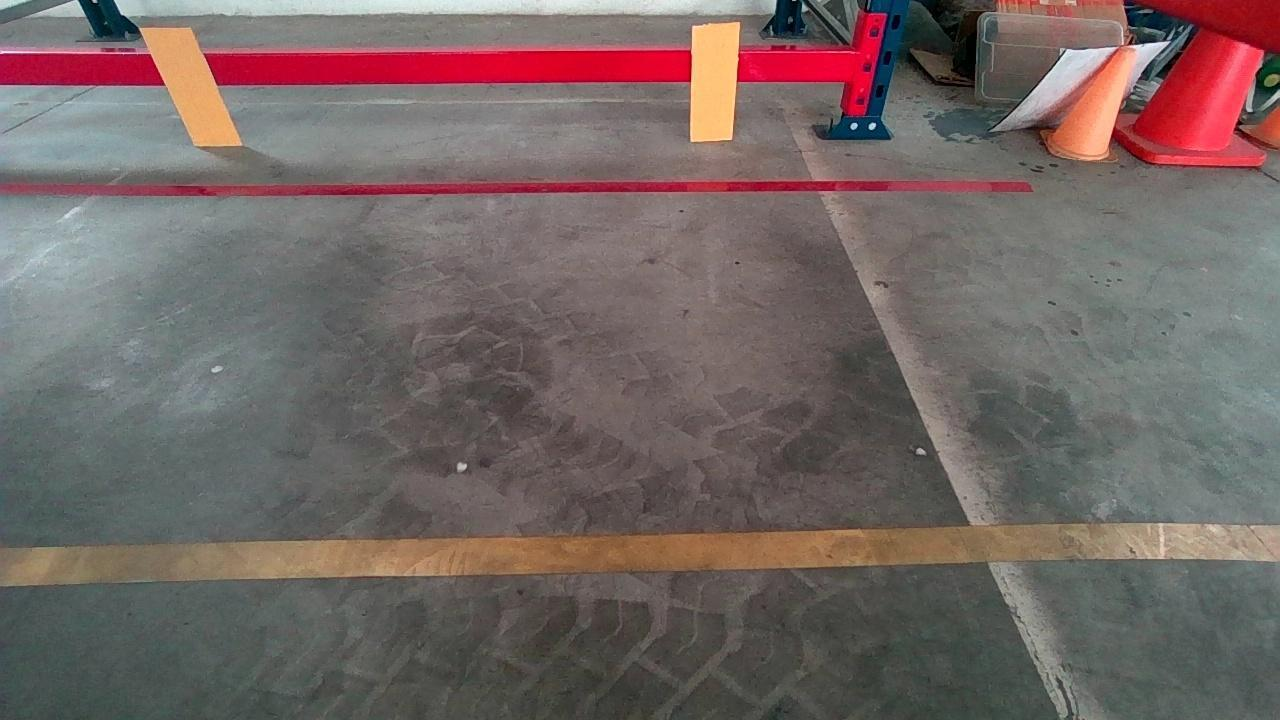h_rack: (11, 48, 862, 91)
orange_strip: (140, 26, 243, 145), (690, 23, 738, 139)
red_line: (6, 171, 1035, 202)
yellow_line: (6, 518, 1280, 589)
